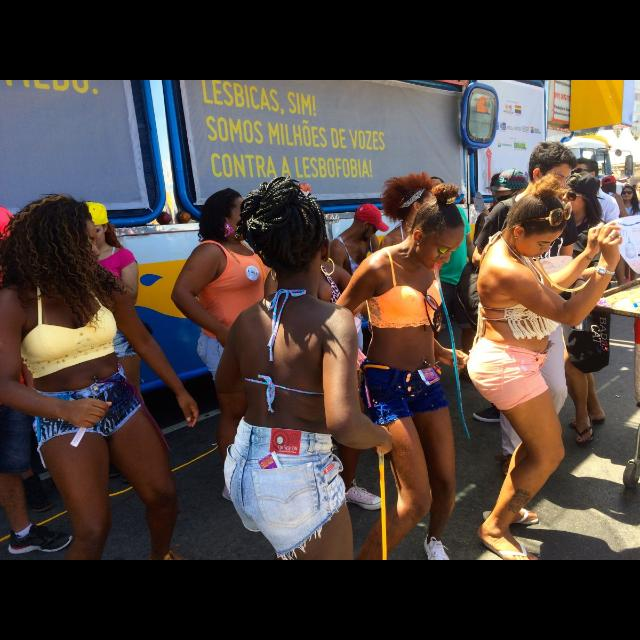head: (250, 188, 332, 274), (34, 198, 104, 280), (506, 193, 568, 260), (410, 199, 466, 271), (528, 142, 574, 200), (205, 188, 252, 242), (273, 212, 317, 256), (494, 170, 532, 216), (400, 188, 436, 226), (557, 180, 595, 216), (78, 207, 109, 250), (353, 202, 383, 240), (1, 228, 20, 276), (572, 158, 600, 184), (426, 176, 446, 204), (600, 176, 618, 194), (621, 184, 635, 202)
person: (170, 187, 308, 508), (263, 197, 385, 511), (472, 140, 582, 484), (45, 200, 148, 484), (0, 204, 78, 554), (469, 168, 567, 422), (377, 172, 451, 470), (537, 172, 611, 446), (408, 177, 490, 383), (554, 156, 620, 362), (330, 203, 392, 403), (585, 174, 637, 302)
